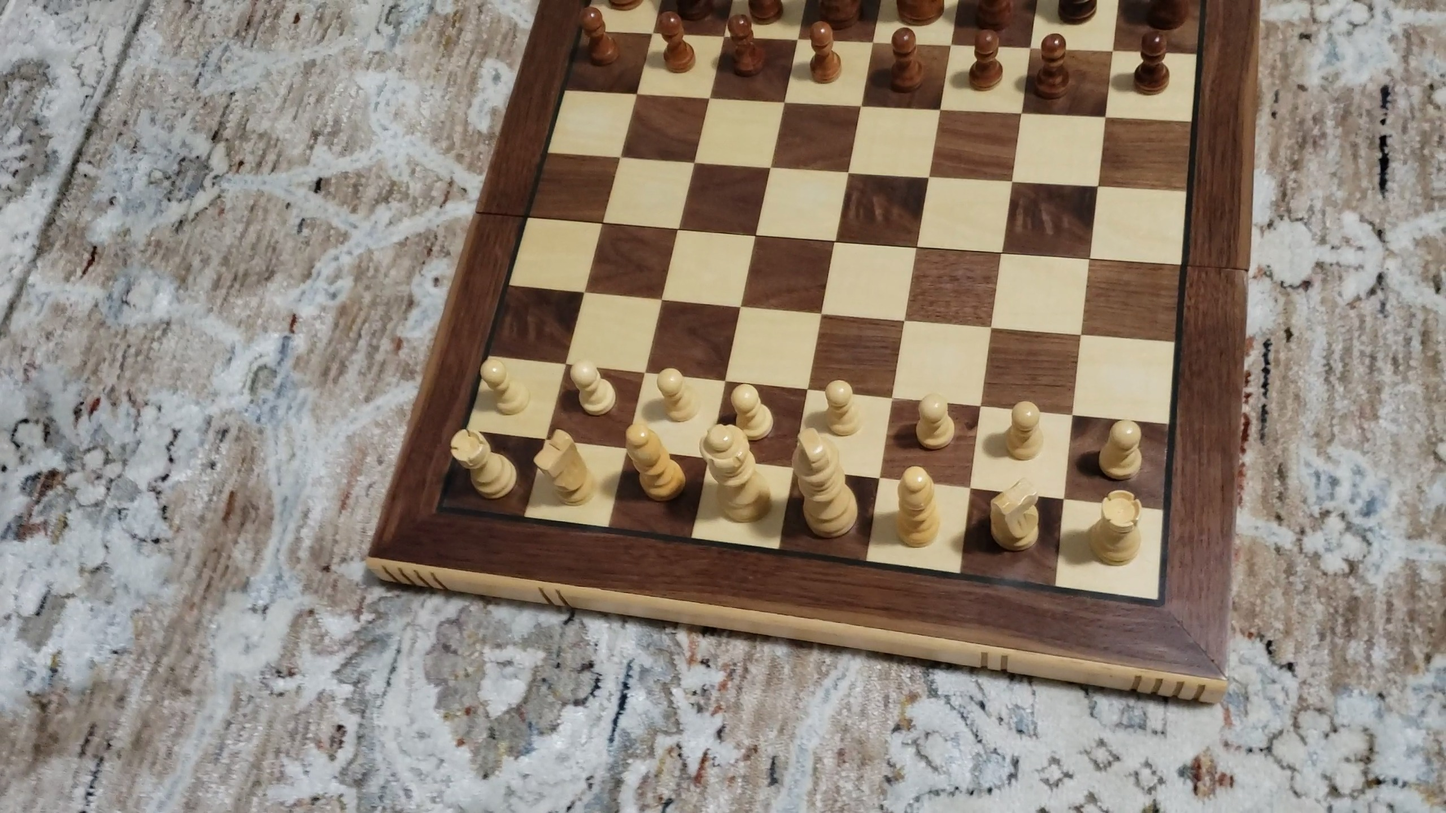black-pawn: (725, 12, 765, 78), (577, 5, 618, 67), (657, 10, 696, 74), (1034, 33, 1070, 101), (1134, 30, 1170, 96), (889, 26, 923, 93), (968, 28, 1002, 92), (808, 21, 841, 85)
white-bishop: (621, 421, 688, 508), (887, 463, 944, 551)
white-king: (783, 430, 863, 544)
white-knight: (531, 427, 598, 510), (987, 475, 1045, 557)
white-pawn: (1089, 411, 1150, 488), (479, 356, 530, 416), (568, 358, 616, 416), (730, 381, 774, 441), (655, 367, 697, 425), (1005, 401, 1044, 461), (915, 392, 953, 450), (823, 378, 861, 436)
white-queen: (700, 421, 776, 531)
white-rook: (1081, 488, 1145, 576), (448, 427, 519, 504)
